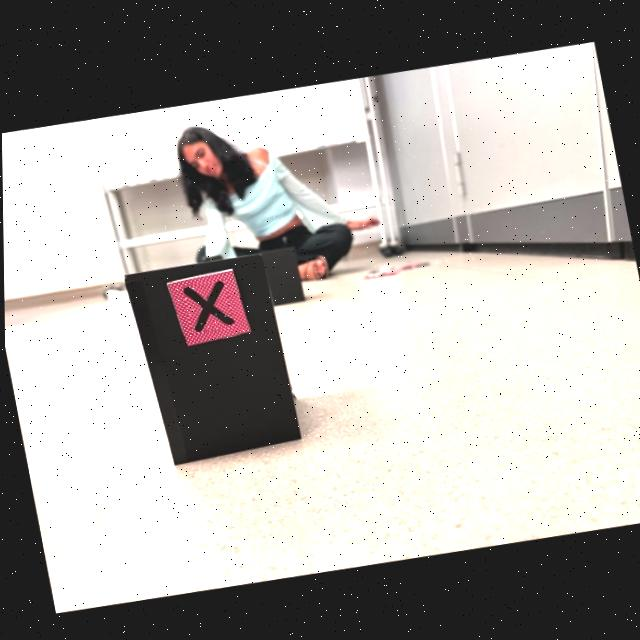X: (183, 279, 232, 331)
